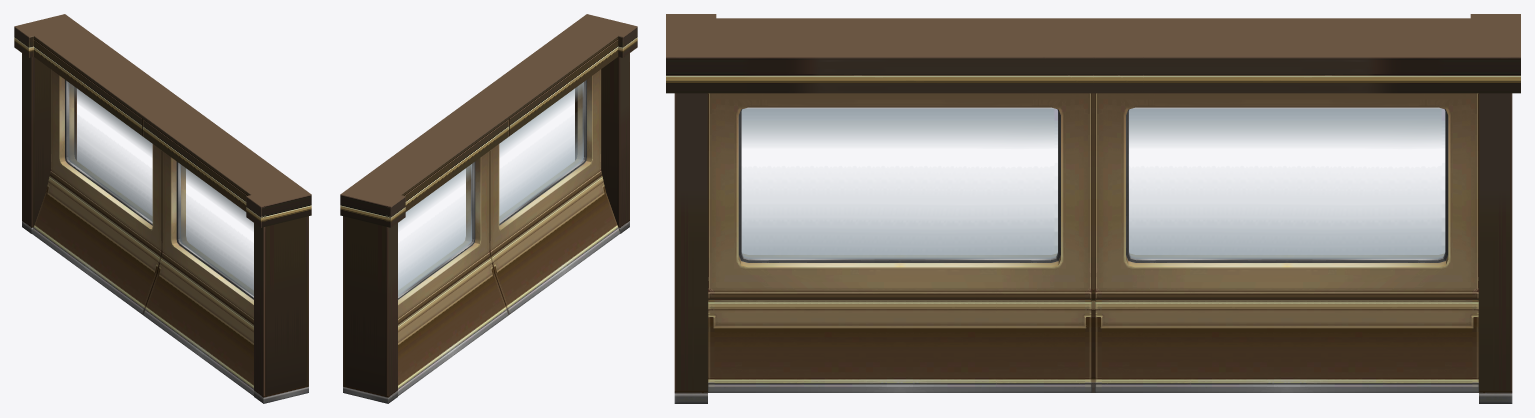
Rendered from my_highlander_01_partition_02.glb.
The picture shows the model from 3 angles, left to right: view 1: azimuth 30°, elevation 25°; view 2: azimuth 150°, elevation 25°; view 3: azimuth 270°, elevation 25°; orthographic projection. The views are drawn at different scales.
Parts seen in each view (by area): view 1: my_highlander_01_partition_02; view 2: my_highlander_01_partition_02; view 3: my_highlander_01_partition_02.
Boxes of the visible parts, box(x1,y1,x2,y2) form: my_highlander_01_partition_02: box(14, 14, 311, 403); my_highlander_01_partition_02: box(340, 14, 637, 403); my_highlander_01_partition_02: box(666, 14, 1520, 403).
Bounding box in the file's own units: 0.00349 × 0.0132 × 0.0294.
Materials: 2 (2 with a texture image).
